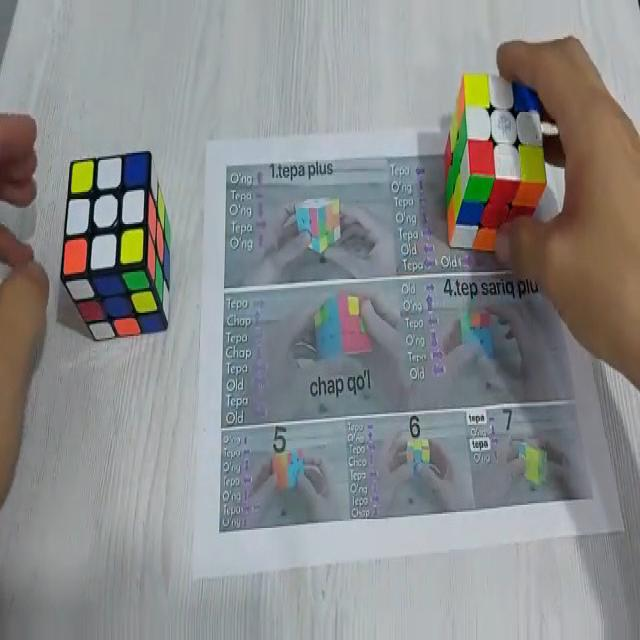Rub: (60, 148, 169, 334), (444, 70, 548, 250)
